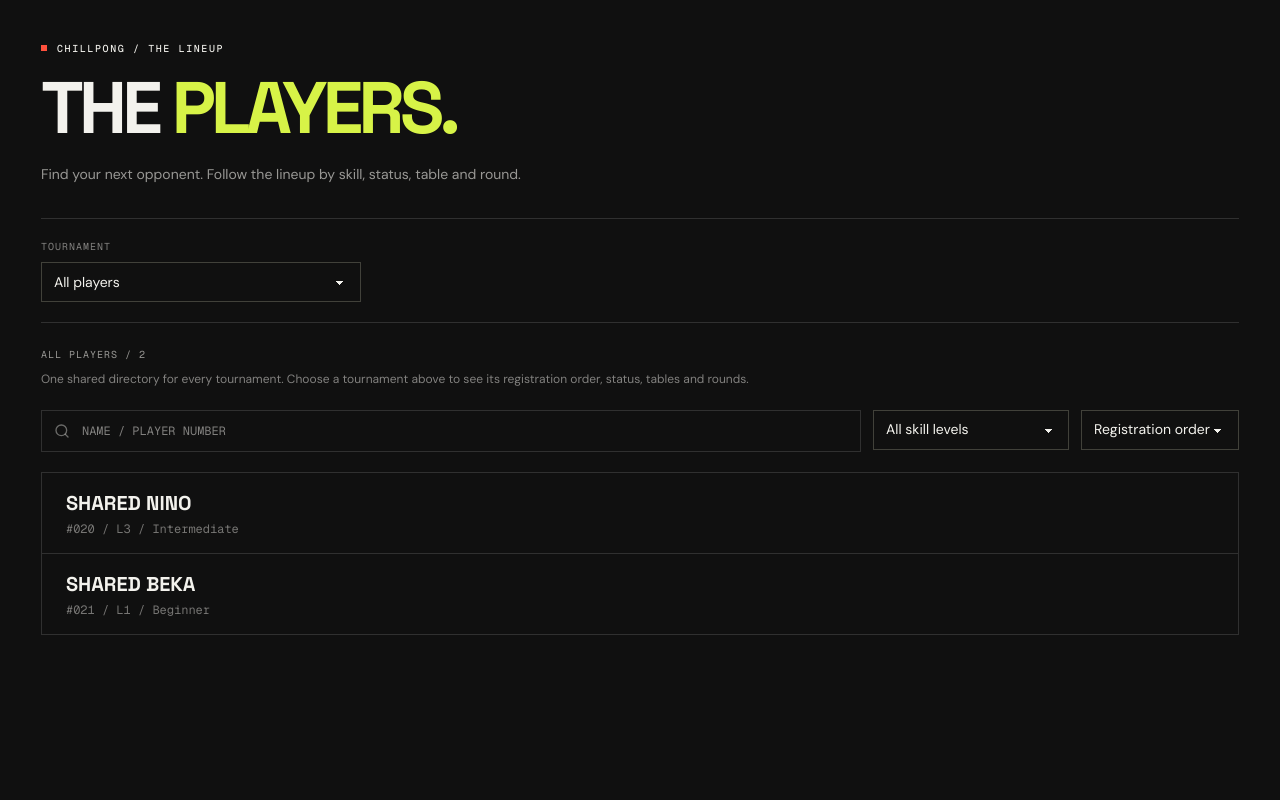
Test: Players page › keeps the shared directory available without any tournaments and supports name and skill filtering
The image size is (1280, 800).
Expected: the text "Shared Nino" is shown, top-left (66, 489), bottom-right (192, 517)
Expected: the dropdown labelled "Tournament" shows "All players", top-left (41, 262), bottom-right (361, 302)
Select "L1 / Beginner" in the 1st dropdown named "Skill level" at (971,430), box top-left (873, 410), bottom-right (1069, 450)
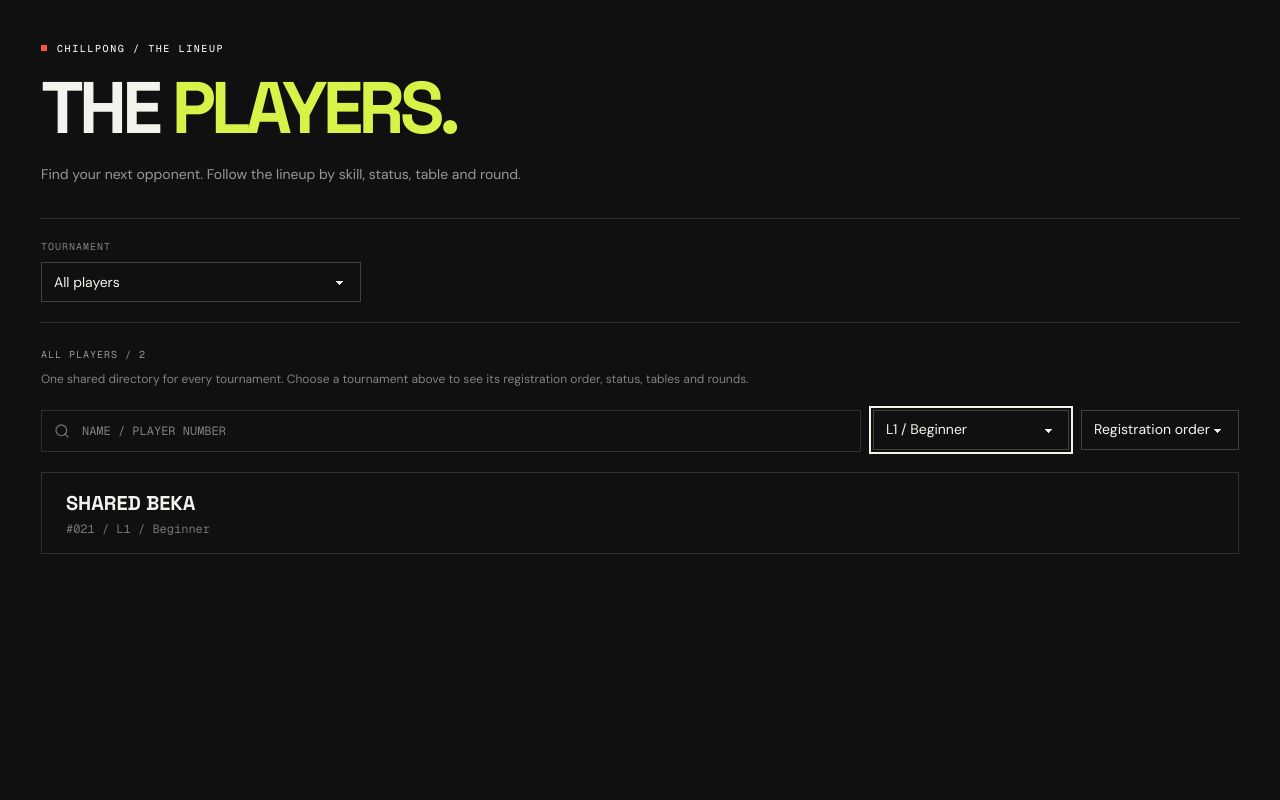
Expected: the text "Shared Beka" is shown, top-left (66, 489), bottom-right (196, 517)
Expected: the text "Shared Nino" is gone
Type "missing" into the search field named "Search shared players" at (465,431), box top-left (82, 411), bottom-right (848, 451)
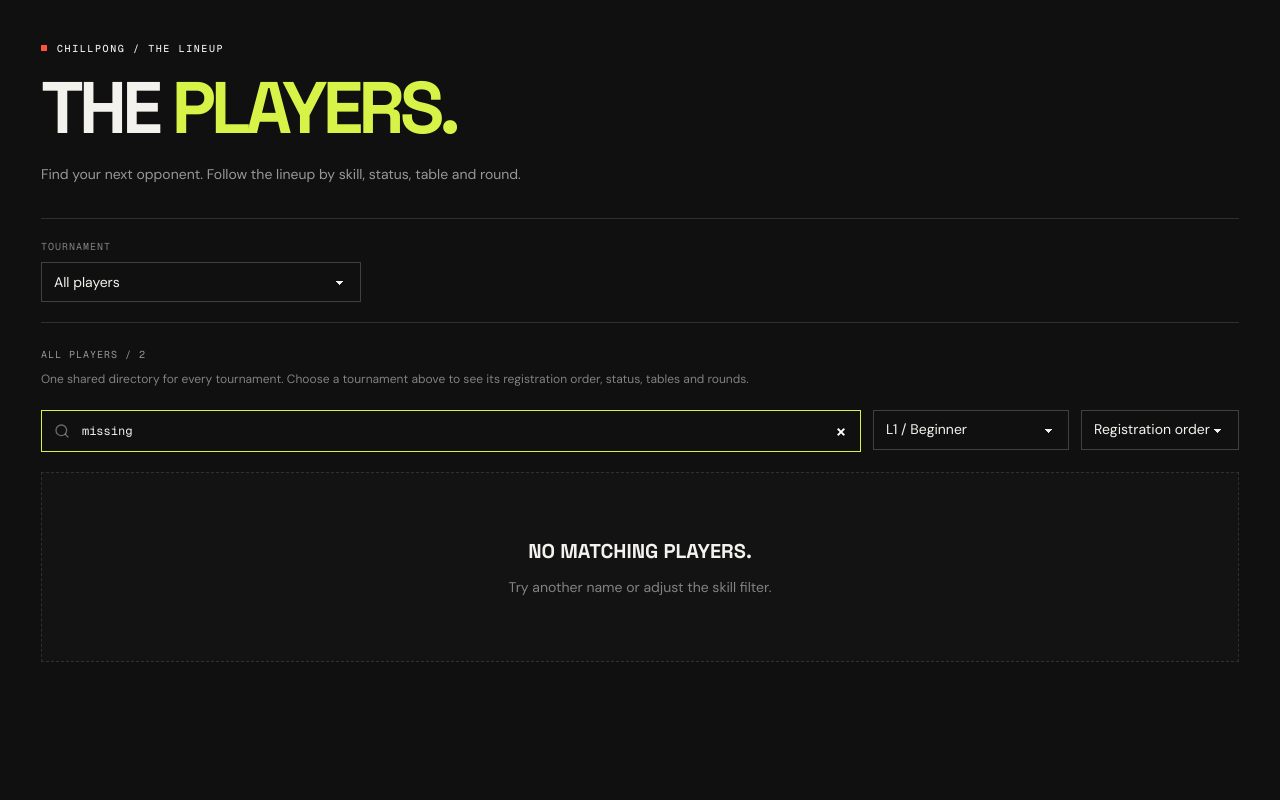
Expected: the text "No matching players." is shown, top-left (528, 537), bottom-right (752, 565)
